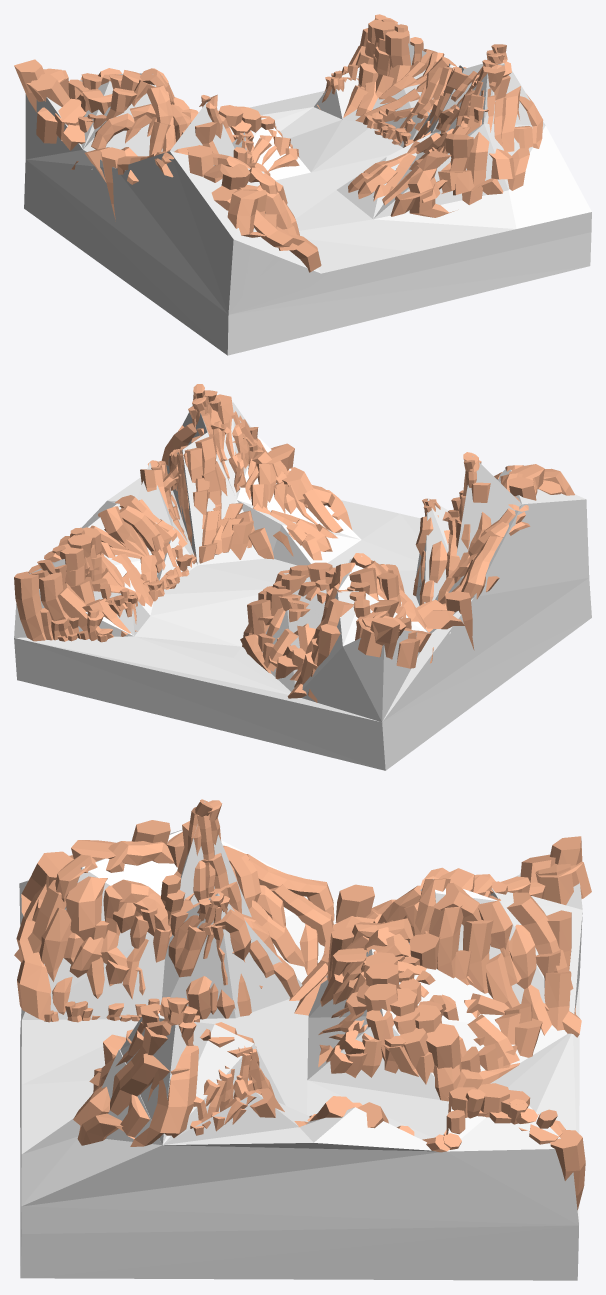
File: christmasTerrainStraight.dae
3 renders of one model, top to bottom at view 1: azimuth 30°, elevation 25°; view 2: azimuth 150°, elevation 25°; view 3: azimuth 270°, elevation 25°, orthographic. The views are drawn at different scales.
Parts seen in each view (by area): view 1: snowTerrainStraight; view 2: snowTerrainStraight; view 3: snowTerrainStraight.
Part boxes in pixels (box(x1,y1,x2,y2)): snowTerrainStraight: box(14, 14, 591, 355); snowTerrainStraight: box(14, 384, 591, 770); snowTerrainStraight: box(14, 799, 591, 1280).
Bounding box in the file's own units: 1.57 × 1.51 × 0.7888.
